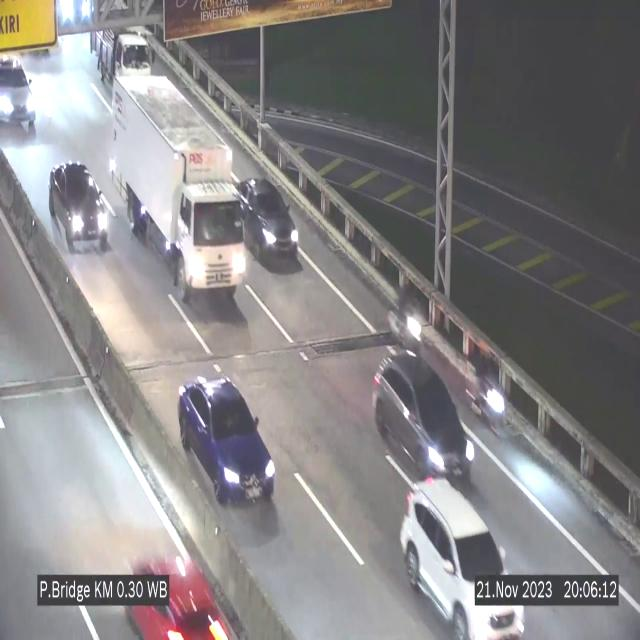Car: (399, 475, 522, 640), (177, 372, 279, 520), (373, 351, 475, 491), (237, 174, 300, 270), (47, 161, 109, 249)
Motorcycle: (473, 340, 507, 430), (392, 283, 428, 358)
Truck: (110, 72, 246, 304)
